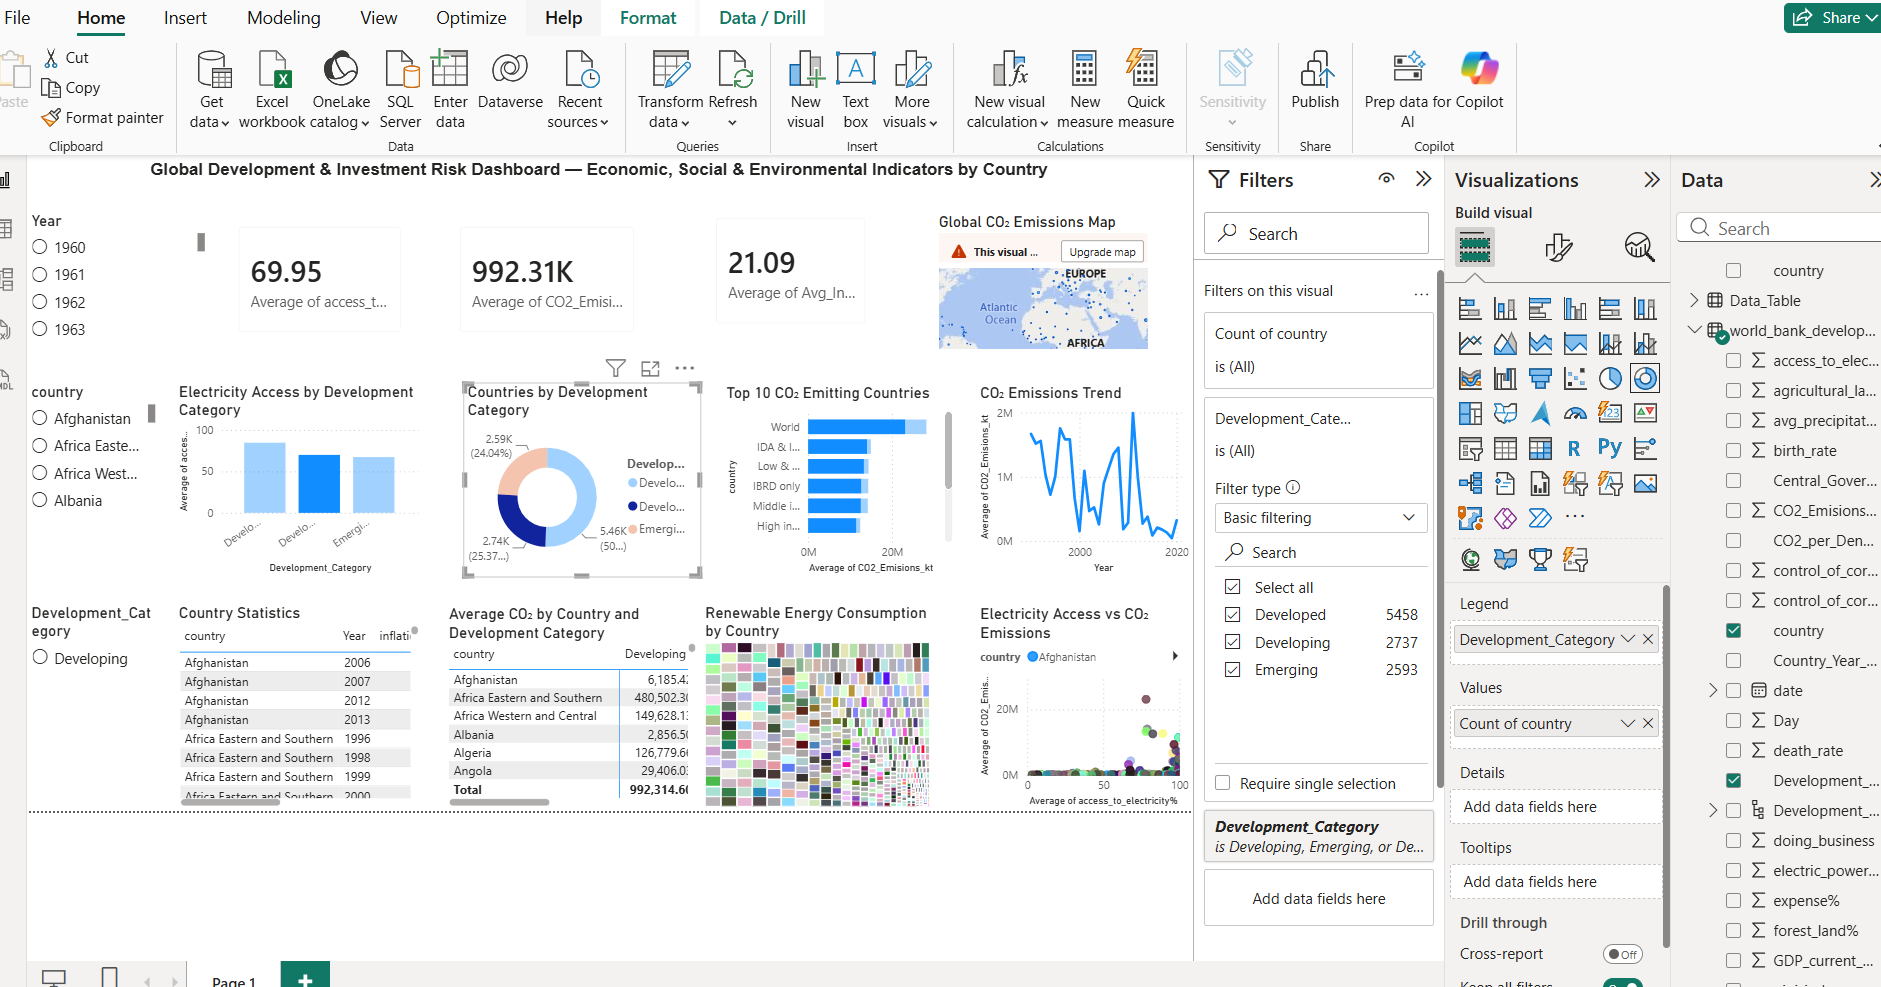

The page's visual inventory and layout, read from the dashboard file:
{"tool":"powerbi","page":{"name":"Page 1","canvas":[1280,720],"ordinal":0},"visuals":[{"type":"textbox","box":[130.4,0,1023.7,34.3],"z":0},{"type":"cardVisual","fields":{"Data":["Avg(world_bank_development_indicato.access_to_electricity%)"]},"box":[189.4,61.7,273.1,172.9],"z":1000},{"type":"cardVisual","fields":{"Data":["Avg(world_bank_development_indicato.CO2_Emisions_kt)"]},"box":[478.9,61.7,260.7,172.9],"z":2000},{"type":"cardVisual","fields":{"Data":["Avg(Country_Summary.Avg_Inflation)"]},"box":[750.6,61.7,258,172.9],"z":3000},{"type":"barChart","title":"Top 10 CO₂ Emitting Countries","fields":{"Category":["world_bank_development_indicato.country"],"Y":["Avg(world_bank_development_indicato.CO2_Emisions_kt)"]},"box":[750.6,252.5,258,214.1],"z":4000},{"type":"clusteredColumnChart","title":"Electricity Access by Development Category","fields":{"Category":["world_bank_development_indicato.Development_Category"],"Y":["Avg(world_bank_development_indicato.access_to_electricity%)"]},"box":[189.4,252.5,273.1,214.1],"z":5000},{"type":"lineChart","title":"CO₂ Emissions Trend","fields":{"Y":["Avg(world_bank_development_indicato.CO2_Emisions_kt)"],"Category":["world_bank_development_indicato.Year"]},"box":[1020.9,252.5,252.5,214.1],"z":6000},{"type":"donutChart","title":"Countries by Development Category","fields":{"Category":["world_bank_development_indicato.Development_Category"],"Y":["CountNonNull(world_bank_development_indicato.country)"]},"box":[478.9,252.5,260.7,214.1],"z":7000},{"type":"tableEx","title":"Country Statistics","fields":{"Values":["world_bank_development_indicato.country","world_bank_development_indicato.Year","world_bank_development_indicato.inflation_annual%","world_bank_development_indicato.CO2_Emisions_kt","world_bank_development_indicato.access_to_electricity%"]},"box":[189.4,492.6,273.1,227.8],"z":8000},{"type":"pivotTable","title":"Average CO₂ by Country and Development Category","fields":{"Rows":["world_bank_development_indicato.country"],"Columns":["world_bank_development_indicato.Development_Category"],"Values":["Avg(world_bank_development_indicato.CO2_Emisions_kt)"]},"box":[478.9,492.6,260.7,227.8],"z":9000},{"type":"azureMap","title":"Global CO₂ Emissions Map","fields":{"Category":["world_bank_development_indicato.country"],"Size":["Avg(world_bank_development_indicato.CO2_Emisions_kt)"]},"box":[1020.9,61.7,252.5,172.9],"z":10000},{"type":"scatterChart","title":"Electricity Access vs CO₂ Emissions","fields":{"X":["Avg(world_bank_development_indicato.access_to_electricity%)"],"Y":["Avg(world_bank_development_indicato.CO2_Emisions_kt)"],"Series":["world_bank_development_indicato.country"]},"box":[1020.9,492.6,252.5,227.8],"z":11000},{"type":"treemap","title":"Renewable Energy Consumption by Country","fields":{"Values":["Avg(world_bank_development_indicato.Renewable_energy_consumption_pct)"],"Group":["world_bank_development_indicato.Development_Category Hierarchy.Development_Category","world_bank_development_indicato.country"]},"box":[752,492.6,256.6,227.8],"z":12000},{"type":"listSlicer","fields":{"Values":["world_bank_development_indicato.Year"]},"box":[0,61.7,179.8,172.9],"z":13000},{"type":"listSlicer","fields":{"Values":["world_bank_development_indicato.country"]},"box":[2.7,252.5,177,214.1],"z":14000},{"type":"listSlicer","fields":{"Values":["world_bank_development_indicato.Development_Category"]},"box":[0,492.6,179.8,227.8],"z":15000}]}

Visuals, with their boxes on the page's 1280x720 design canvas (x1, y1, x2, y2). These are canvas units, not pixel positions in the 1881x987 screenshot, which may show the page scaled, cropped or inside an application window:
textbox: bbox=(130, 0, 1154, 34)
cardVisual - Avg(world_bank_development_indicato.access_to_electricity%): bbox=(189, 62, 462, 235)
cardVisual - Avg(world_bank_development_indicato.CO2_Emisions_kt): bbox=(479, 62, 740, 235)
cardVisual - Avg(Country_Summary.Avg_Inflation): bbox=(751, 62, 1009, 235)
"Top 10 CO₂ Emitting Countries" barChart: bbox=(751, 252, 1009, 467)
"Electricity Access by Development Category" clusteredColumnChart: bbox=(189, 252, 462, 467)
"CO₂ Emissions Trend" lineChart: bbox=(1021, 252, 1273, 467)
"Countries by Development Category" donutChart: bbox=(479, 252, 740, 467)
"Country Statistics" tableEx: bbox=(189, 493, 462, 720)
"Average CO₂ by Country and Development Category" pivotTable: bbox=(479, 493, 740, 720)
"Global CO₂ Emissions Map" azureMap: bbox=(1021, 62, 1273, 235)
"Electricity Access vs CO₂ Emissions" scatterChart: bbox=(1021, 493, 1273, 720)
"Renewable Energy Consumption by Country" treemap: bbox=(752, 493, 1009, 720)
listSlicer - world_bank_development_indicato.Year: bbox=(0, 62, 180, 235)
listSlicer - world_bank_development_indicato.country: bbox=(3, 252, 180, 467)
listSlicer - world_bank_development_indicato.Development_Category: bbox=(0, 493, 180, 720)
